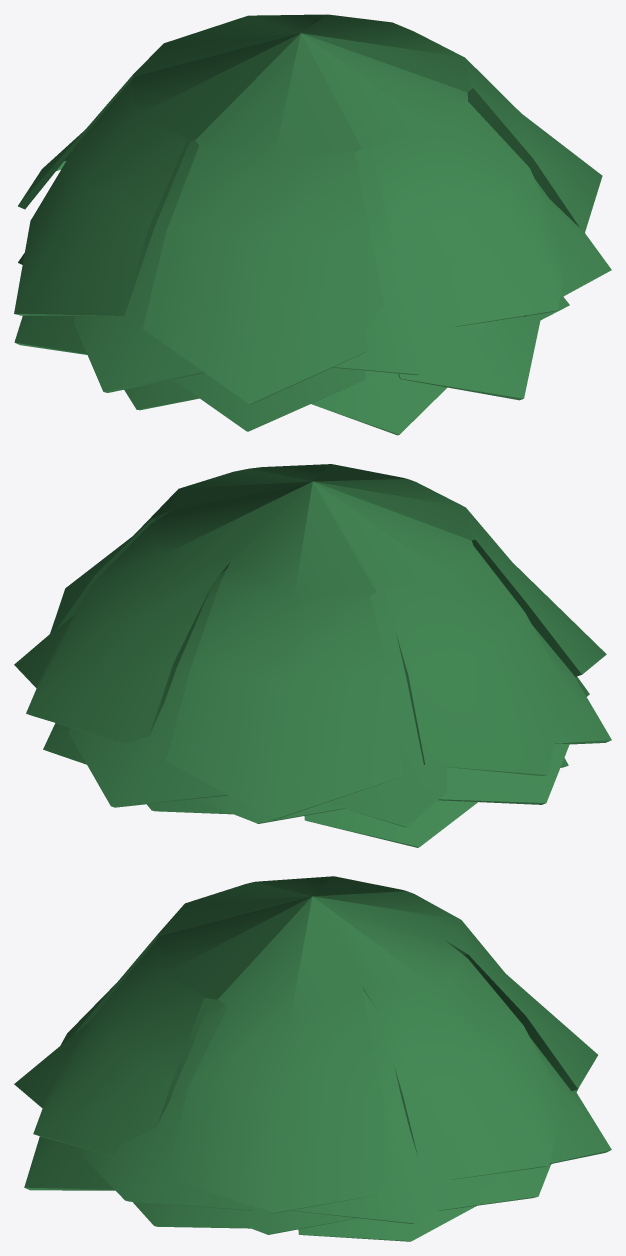
Rendered from arbusto2.fbx.
3 renders of one model, top to bottom at view 1: azimuth 30°, elevation 25°; view 2: azimuth 150°, elevation 25°; view 3: azimuth 270°, elevation 25°, orthographic. The views are drawn at different scales.
Parts seen in each view (by area): view 1: arbusto_2; view 2: arbusto_2; view 3: arbusto_2.
Boxes of the visible parts, bbox=[...] form: arbusto_2: bbox=[14, 14, 611, 435]; arbusto_2: bbox=[14, 464, 611, 847]; arbusto_2: bbox=[14, 876, 611, 1241].
Bounding box in the file's own units: 360 × 182 × 358.
